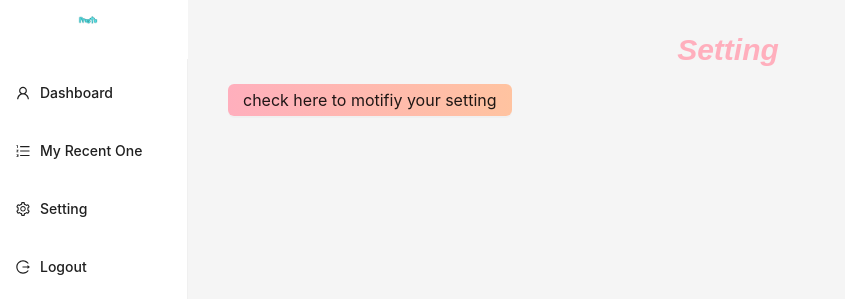
Test case: SettingPage Component › shows and hides the form when clicking the button
Click on the button to show the form
Click the button "check here to motifiy your setting". click: (370, 100)
box: top-left (228, 84), bottom-right (512, 116)
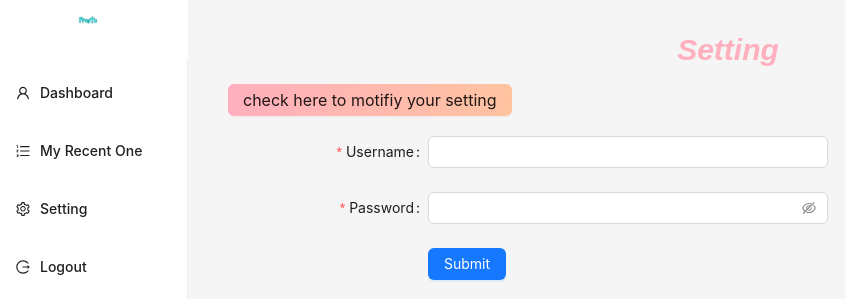
Expected: the field labelled "Username" is shown, top-left (428, 136), bottom-right (828, 168)
Click the button again to hide the form
Click the button "check here to motifiy your setting". click: (370, 100)
box: top-left (228, 84), bottom-right (512, 116)
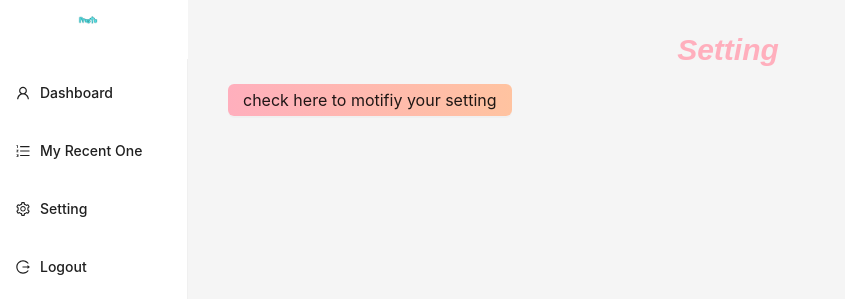
Expected: the label labelled "Username" is gone
Expected: the label labelled "Password" is gone
